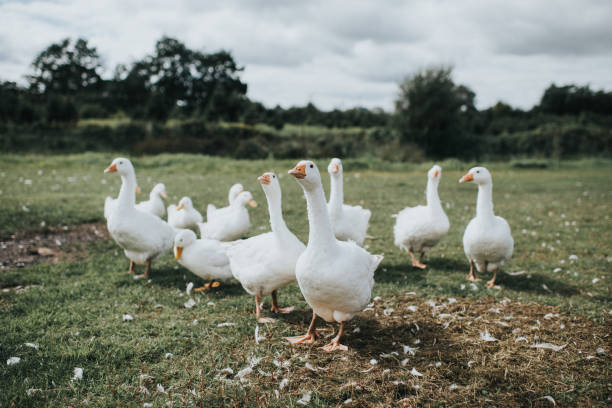goose: (286, 160, 383, 357), (229, 168, 303, 315), (102, 154, 173, 286), (454, 165, 519, 288), (392, 155, 448, 270), (324, 157, 377, 247), (170, 227, 235, 296), (200, 183, 254, 240), (137, 180, 173, 221), (171, 195, 200, 233)
